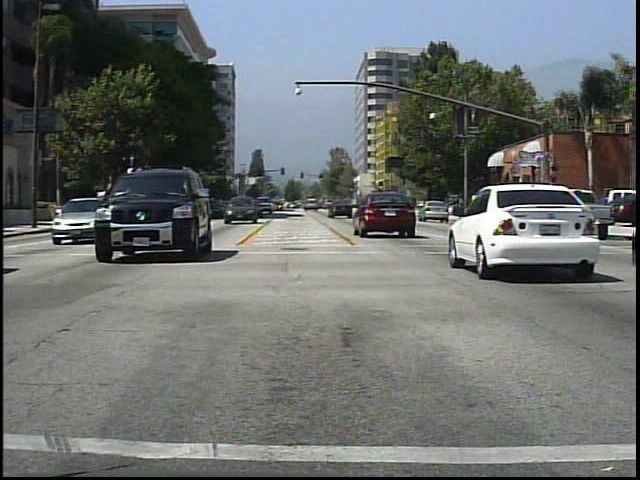person: (547, 190, 566, 228), (501, 188, 519, 224)
